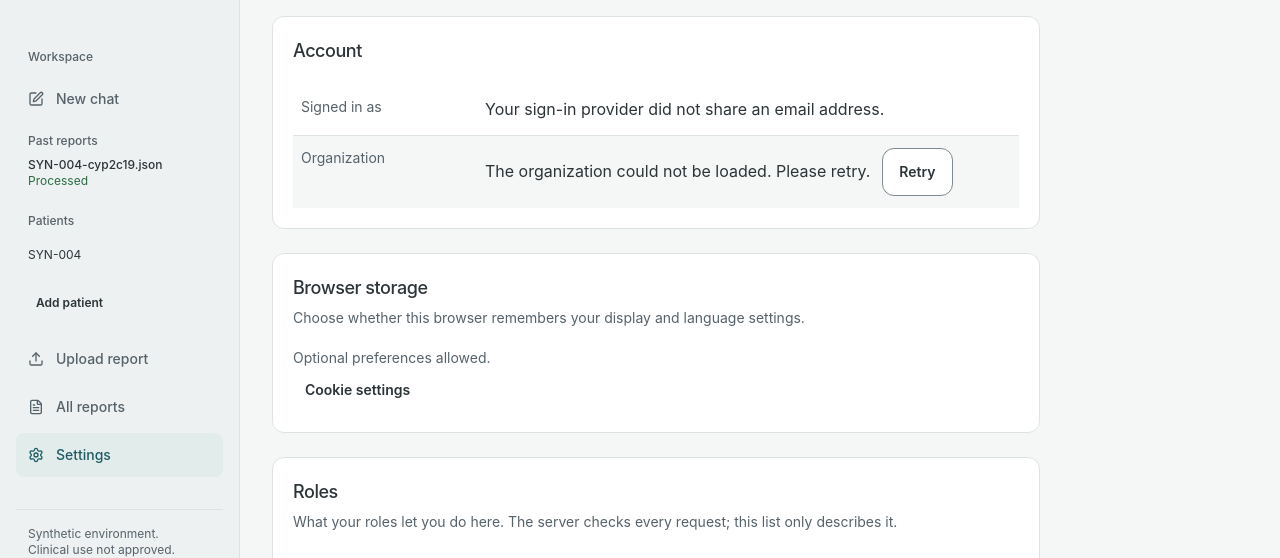
the feature panel (specs/024 D2, D6, CH-2) › Add patient (CH-9, D2a) › with demographics (spec 025 T301, T302) › refuses sex without a name and date of birth before any request, naming the fields only
The image size is (1280, 558).
Click the button "Add patient" at [120, 303], box [28,281,211,325]
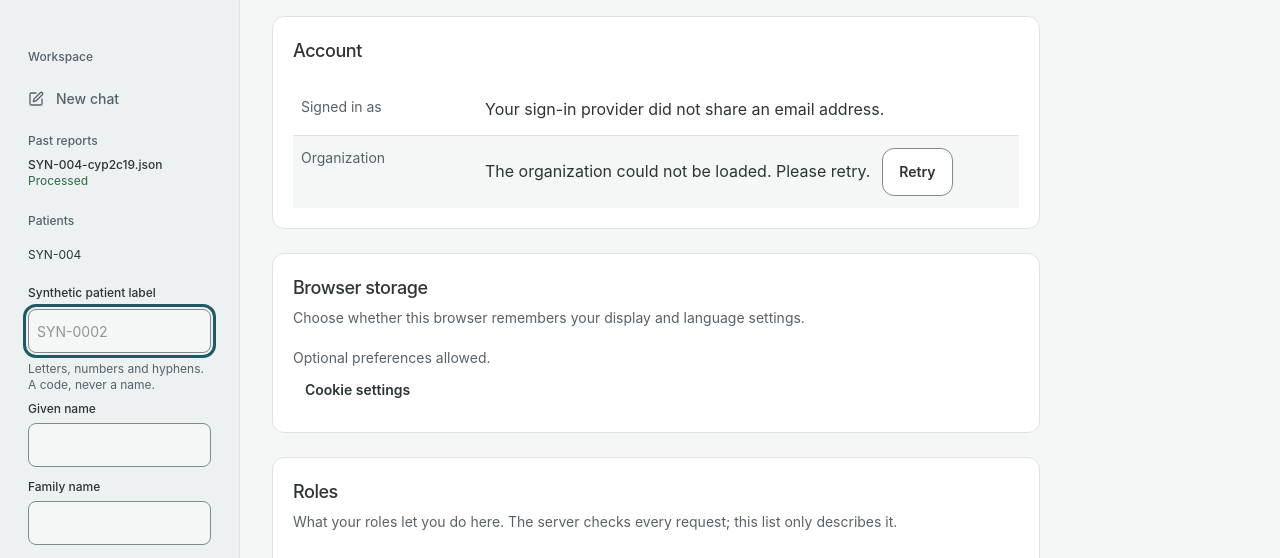
Type "SYN-777" into the field labelled "Synthetic patient label" at [120, 331], box [28,309,211,353]
(page scrolled)
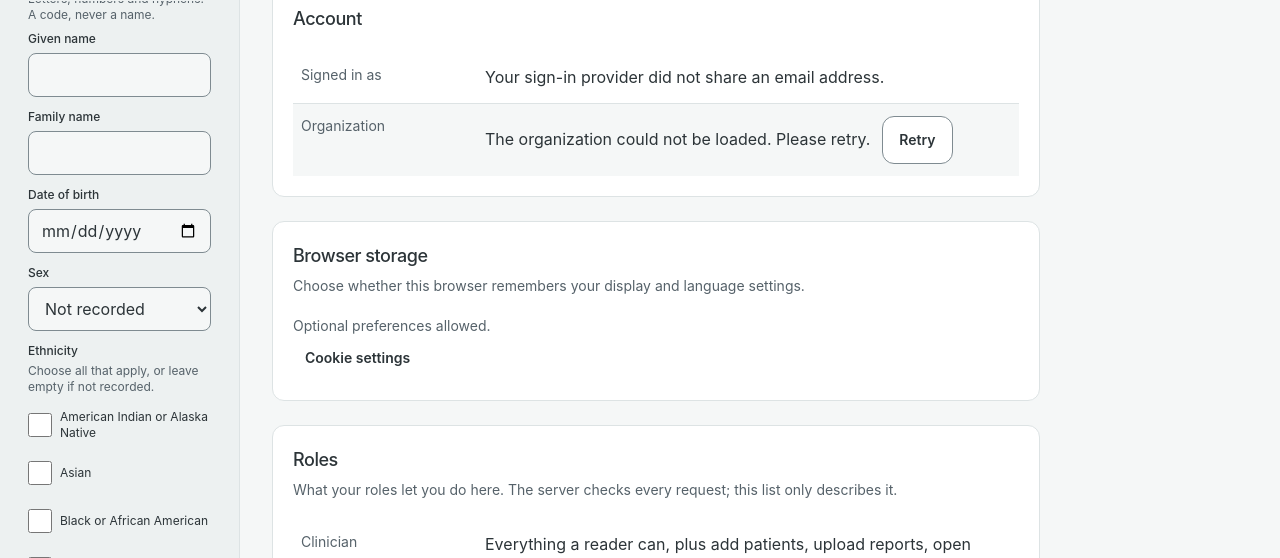
Select "Male" in the dropdown labelled "Sex" at [120, 309], box [28,287,211,331]
(page scrolled)
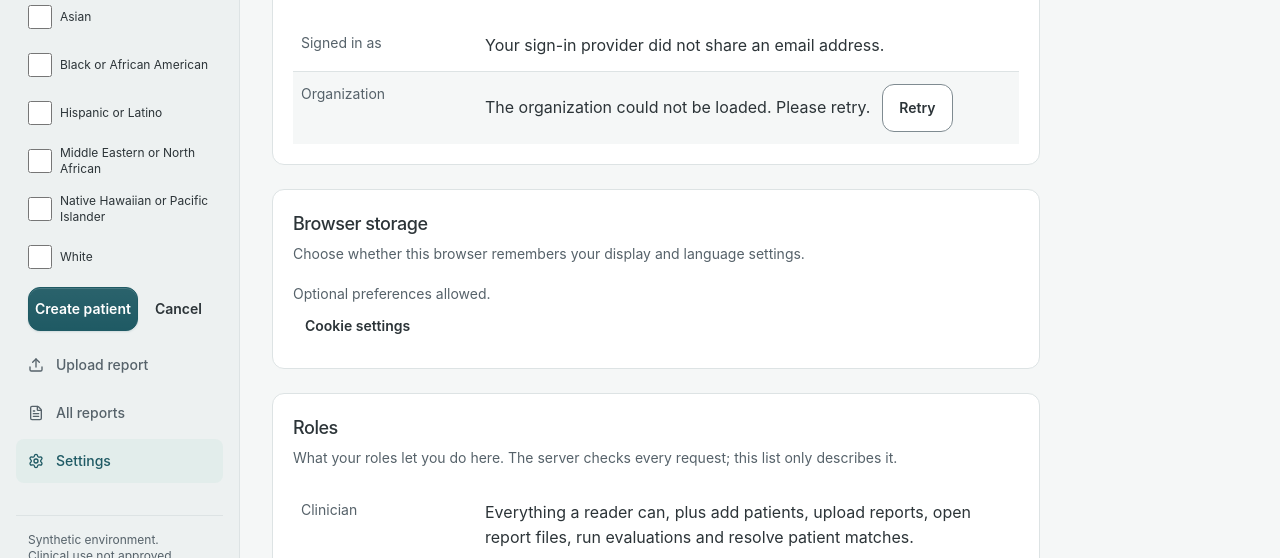
Click the button "Create patient" at [83, 309], box [28,287,138,331]
(page scrolled)
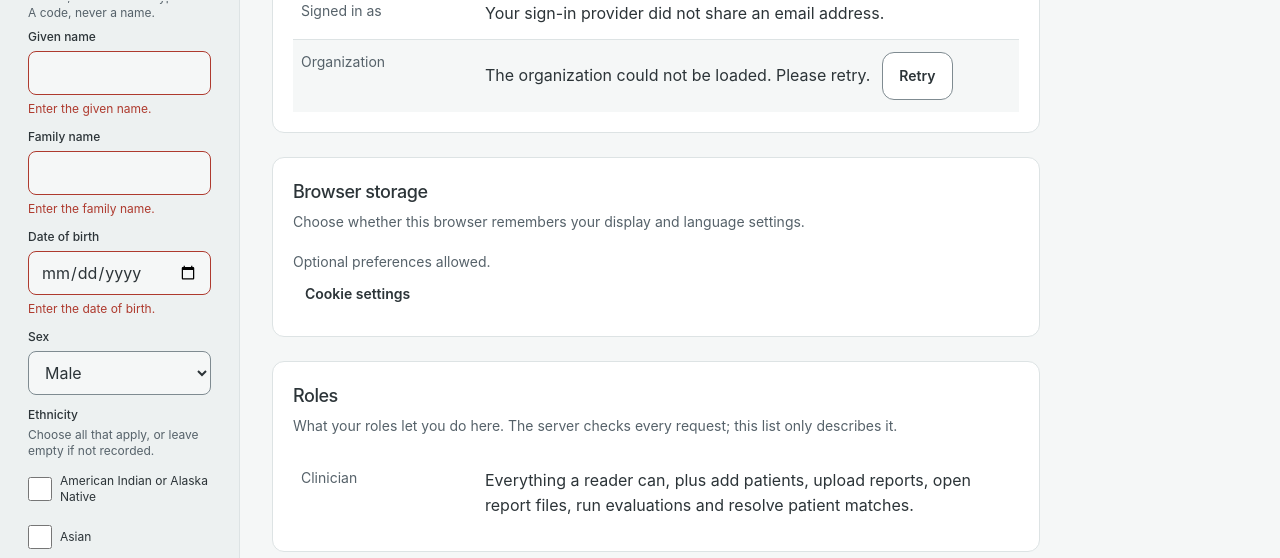
Check: the text "Enter the given name." is shown, box [28,101,151,116]
Check: the text "Enter the date of birth." is shown, box [28,301,155,316]
